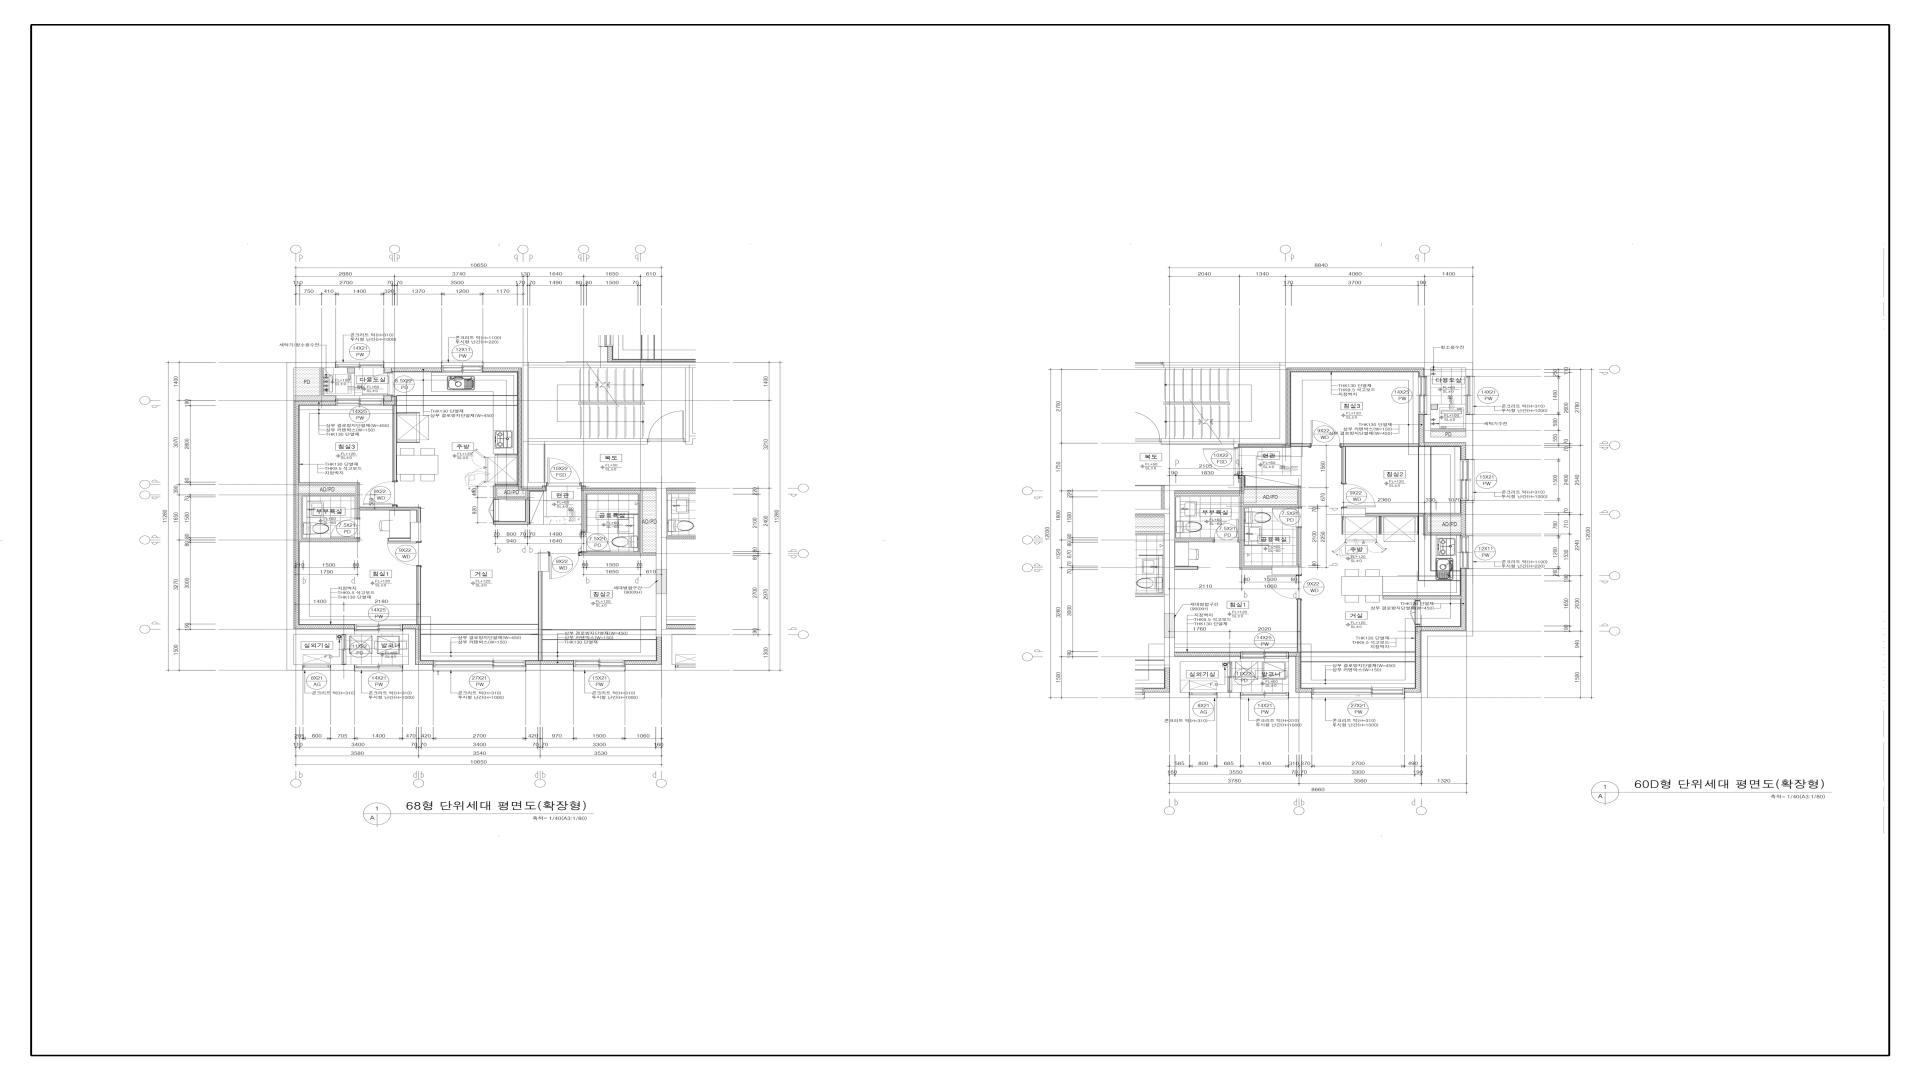door: (647, 409, 686, 444), (1203, 447, 1238, 476), (546, 458, 582, 487), (549, 553, 582, 580), (1267, 575, 1302, 600), (363, 481, 397, 506), (1341, 484, 1375, 508), (386, 542, 421, 566), (1311, 421, 1341, 447), (363, 372, 392, 396), (1213, 518, 1240, 542), (582, 531, 611, 553), (1273, 508, 1300, 529), (331, 518, 359, 539), (1410, 599, 1420, 625), (488, 498, 498, 522), (1228, 662, 1232, 692)
wall: (286, 363, 355, 670), (582, 483, 696, 593), (1404, 568, 1473, 698), (625, 593, 696, 670), (1145, 596, 1189, 698), (1234, 368, 1287, 448), (1135, 491, 1175, 596), (582, 491, 642, 553), (298, 493, 359, 542), (522, 368, 546, 488), (1286, 363, 1473, 376), (1424, 414, 1473, 460), (299, 483, 359, 518), (1240, 508, 1273, 568), (1175, 493, 1298, 508), (294, 368, 336, 401), (402, 629, 433, 670), (1245, 487, 1300, 508), (1164, 476, 1241, 491), (1288, 657, 1312, 698), (360, 506, 421, 522), (493, 498, 529, 525), (524, 363, 696, 368), (1424, 516, 1466, 535), (686, 368, 696, 444), (1163, 363, 1286, 368), (529, 439, 647, 444), (495, 485, 529, 498), (1175, 657, 1241, 662), (384, 363, 442, 368), (393, 405, 397, 481), (1160, 439, 1234, 443), (526, 665, 574, 670), (539, 571, 542, 661), (417, 566, 421, 625), (1341, 508, 1366, 517), (1273, 567, 1302, 575), (483, 363, 524, 368), (294, 363, 335, 368), (410, 522, 421, 542), (538, 553, 549, 572), (1341, 444, 1419, 447), (1383, 596, 1461, 599), (582, 553, 657, 555), (1366, 513, 1423, 516), (1466, 514, 1473, 535), (1298, 600, 1300, 653), (1145, 665, 1170, 670), (331, 665, 355, 670), (1217, 692, 1241, 698), (1298, 527, 1300, 567), (1175, 539, 1213, 542), (1342, 447, 1345, 484), (1424, 513, 1461, 516), (1431, 429, 1466, 431), (1466, 501, 1473, 514), (666, 491, 696, 493), (1135, 593, 1164, 596), (1135, 531, 1164, 534), (389, 538, 410, 541), (384, 396, 392, 401), (666, 537, 696, 538), (385, 368, 392, 372), (1291, 444, 1311, 446)
window: (1312, 687, 1404, 699), (433, 661, 526, 667), (1460, 459, 1474, 501), (442, 361, 483, 372), (355, 665, 404, 673), (1241, 651, 1288, 659), (355, 624, 402, 632), (336, 398, 384, 406), (1418, 376, 1427, 414), (574, 661, 625, 667), (1240, 692, 1288, 699), (1460, 535, 1469, 570), (1466, 376, 1474, 414), (335, 363, 384, 368), (1134, 363, 1163, 365), (1189, 692, 1217, 695), (303, 665, 331, 667)
